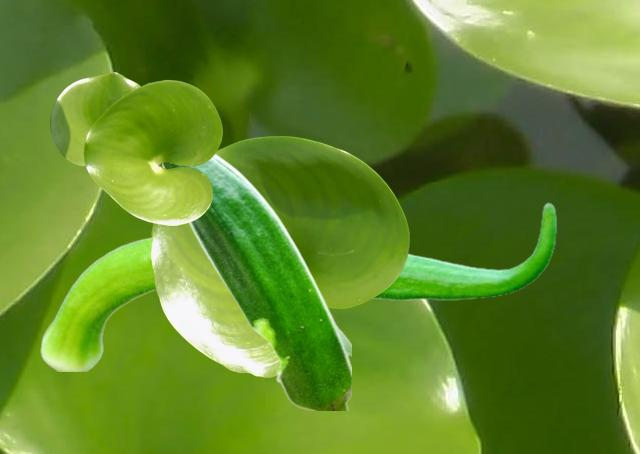okra: (40, 202, 556, 370), (162, 153, 350, 409)
